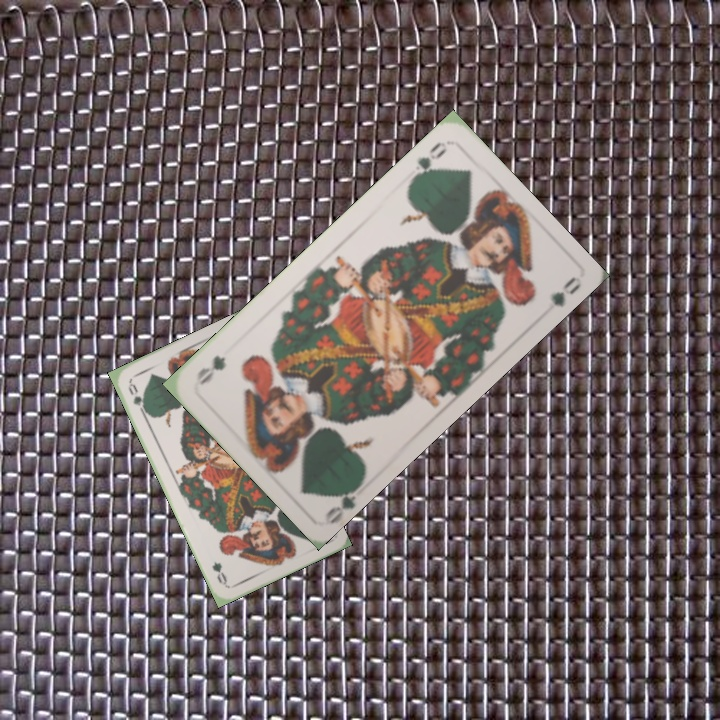GO: (321, 475, 367, 524), (405, 137, 450, 186), (124, 378, 151, 417)
